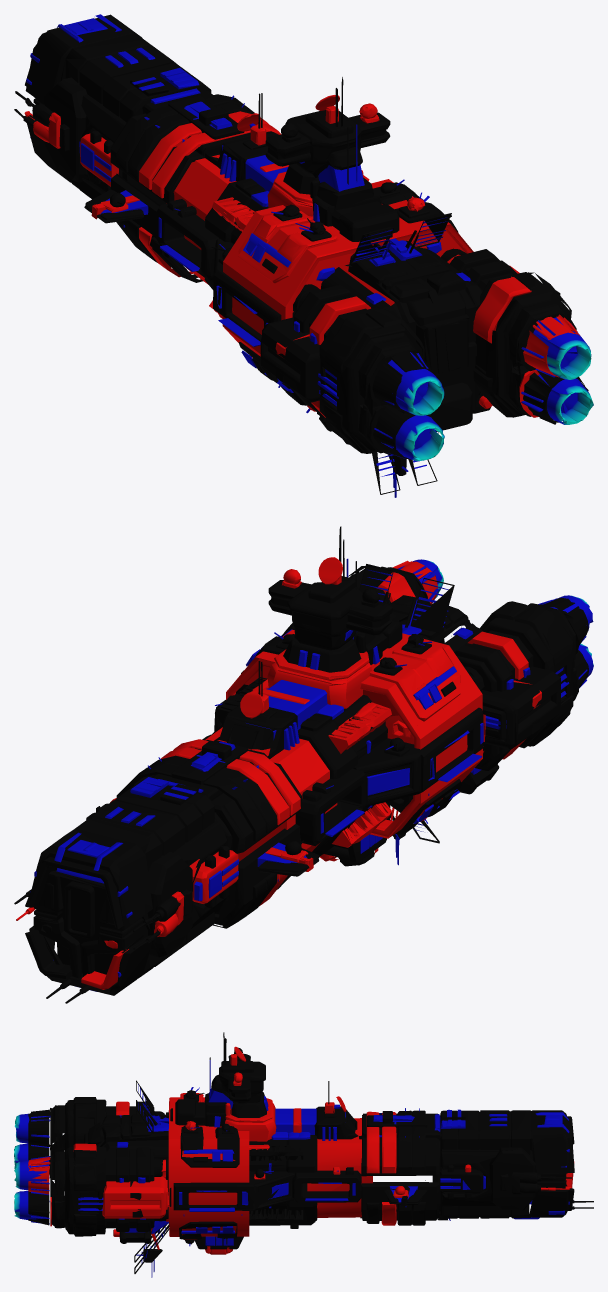
The model's file is iron_vanguard.glb.
The picture shows the model from 3 angles, top to bottom: view 1: azimuth 30°, elevation 25°; view 2: azimuth 150°, elevation 25°; view 3: azimuth 270°, elevation 25°; orthographic projection. The views are drawn at different scales.
Visible parts, largest first — view 1: section_2, section_4, section_3, section_1, section_0, engine_2, engine_3, engine_0, engine_1; view 2: section_2, section_0, section_1, section_3, section_4; view 3: section_2, section_1, section_0, section_3, section_4, engine_3, engine_1, engine_2.
Part boxes in pixels (bbox=[...]): section_2: bbox=[156, 77, 473, 415]; section_4: bbox=[319, 272, 588, 459]; section_3: bbox=[260, 204, 519, 497]; section_1: bbox=[80, 68, 281, 284]; section_0: bbox=[14, 14, 211, 199]; engine_2: bbox=[388, 360, 444, 415]; engine_3: bbox=[533, 317, 591, 379]; engine_0: bbox=[395, 415, 444, 461]; engine_1: bbox=[538, 374, 593, 424]; section_2: bbox=[202, 526, 483, 866]; section_0: bbox=[14, 779, 221, 1003]; section_1: bbox=[86, 661, 337, 928]; section_3: bbox=[359, 564, 569, 865]; section_4: bbox=[348, 560, 588, 748]; section_2: bbox=[168, 1032, 361, 1254]; section_1: bbox=[307, 1081, 499, 1225]; section_0: bbox=[440, 1110, 593, 1219]; section_3: bbox=[78, 1080, 195, 1277]; section_4: bbox=[28, 1097, 107, 1236]; engine_3: bbox=[14, 1160, 49, 1190]; engine_1: bbox=[14, 1191, 46, 1219]; engine_2: bbox=[14, 1113, 29, 1143].
Size of the model in its own units: 493 by 703 by 1500.
